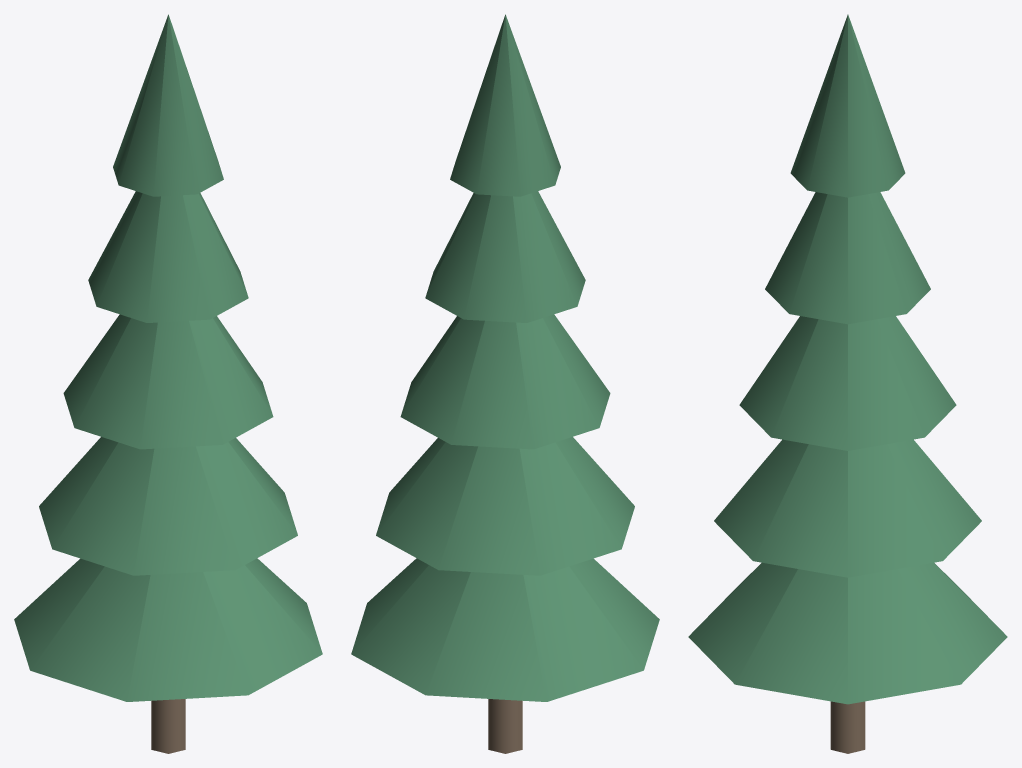
Rendered from tree_cedar.glb.
The picture shows the model from 3 angles, left to right: view 1: azimuth 30°, elevation 25°; view 2: azimuth 150°, elevation 25°; view 3: azimuth 270°, elevation 25°; orthographic projection.
Visible parts, largest first — view 1: tree_cedar; view 2: tree_cedar; view 3: tree_cedar.
Boxes of the visible parts, x1,y1,x2,y2 form: tree_cedar: [14, 14, 322, 753]; tree_cedar: [351, 14, 659, 753]; tree_cedar: [688, 14, 1007, 753].
Size of the model in its own units: 4 by 10.1 by 4.
